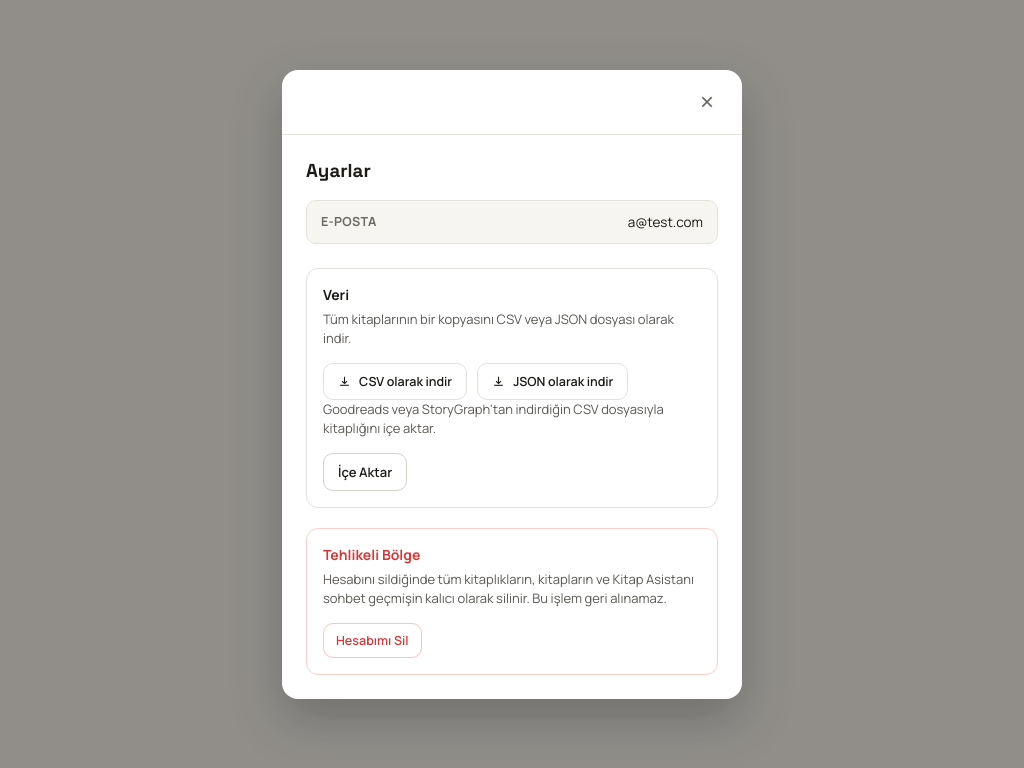
Scenario: SettingsModal › opens the delete-account confirmation modal when the danger button is clicked
Click the button "Hesabımı Sil".
click(372, 640)  # box [323,622,422,658]
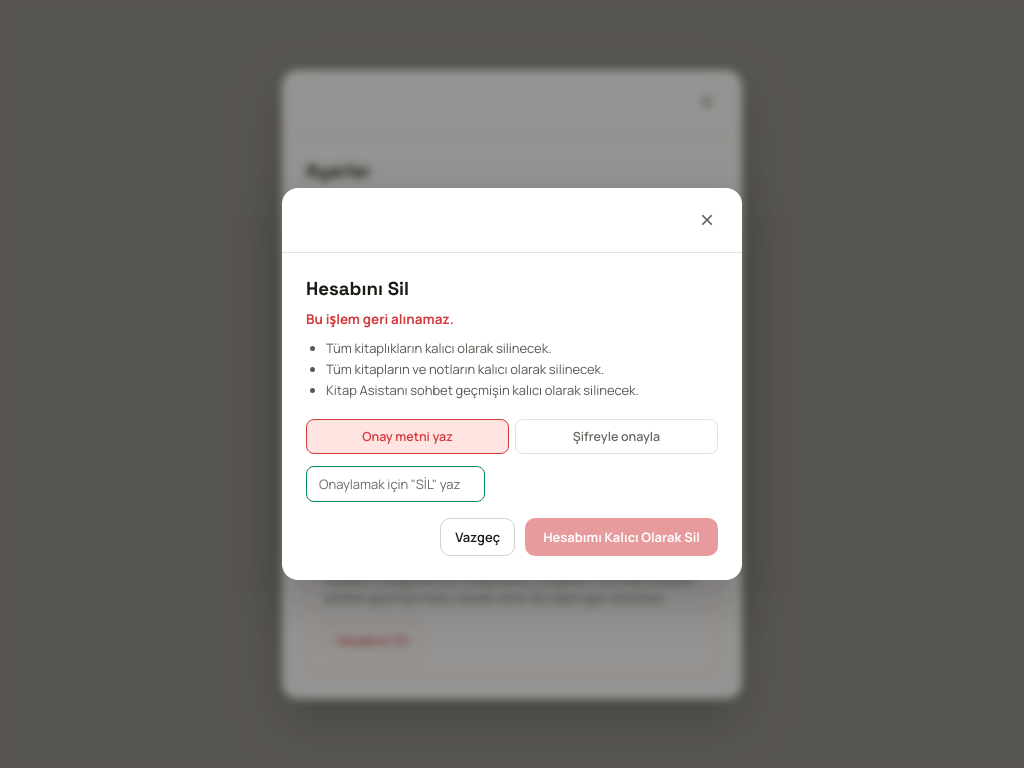
Expected: the heading "Hesabını Sil" is shown, [306,277,409,300]
